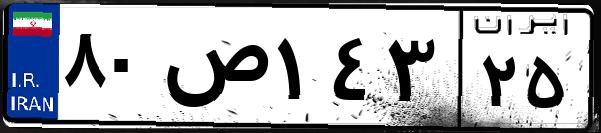0: (110, 28, 158, 98)
1: (270, 28, 330, 110)
2: (475, 38, 525, 113)
3: (385, 28, 445, 110)
4: (330, 28, 385, 110)
5: (525, 38, 570, 115)
8: (57, 26, 110, 100)
ص: (158, 20, 270, 120)
